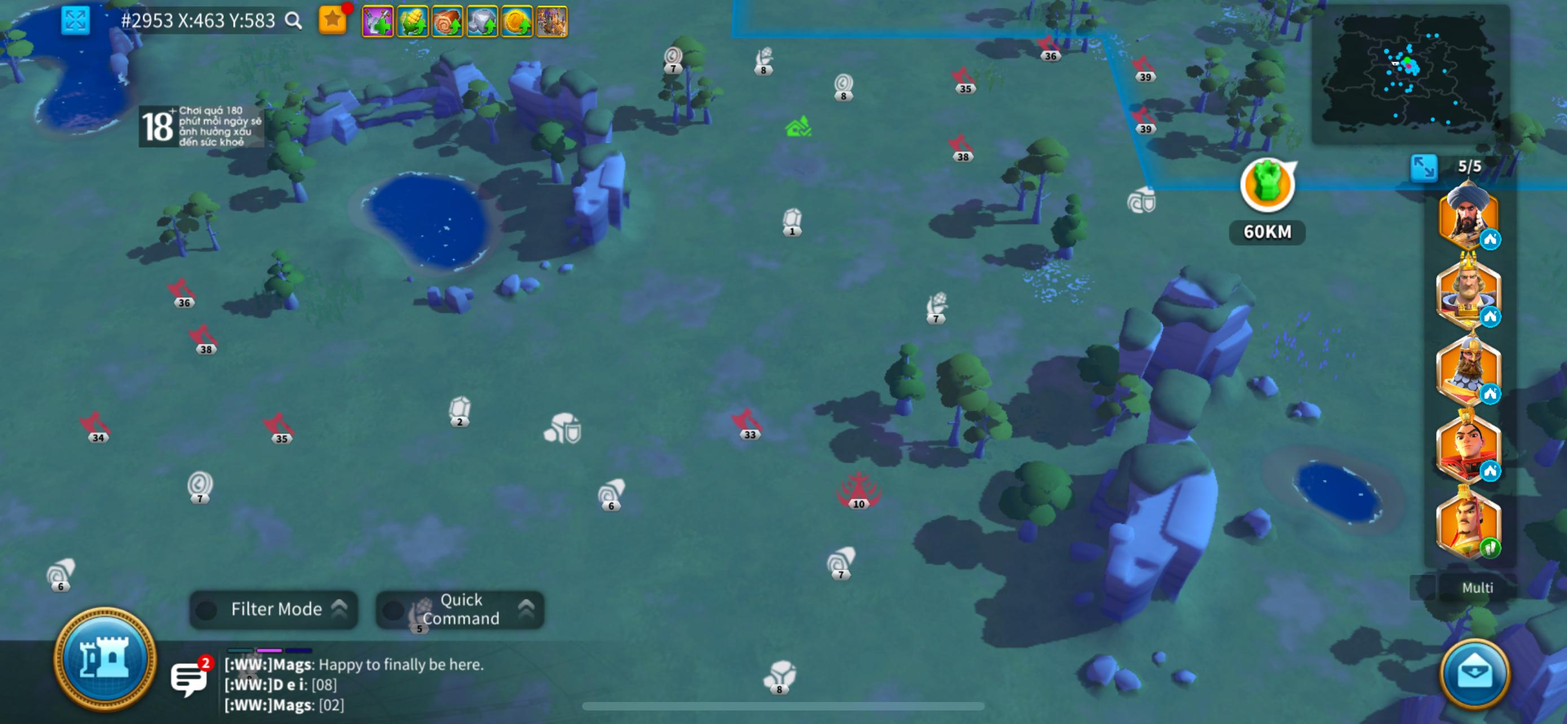gem-z-out: (447, 394, 472, 422), (781, 206, 804, 232)
march_idle: (1480, 228, 1503, 252), (1480, 305, 1503, 329), (1479, 383, 1502, 406), (1480, 459, 1502, 483)
march_marching: (1479, 536, 1502, 560)
